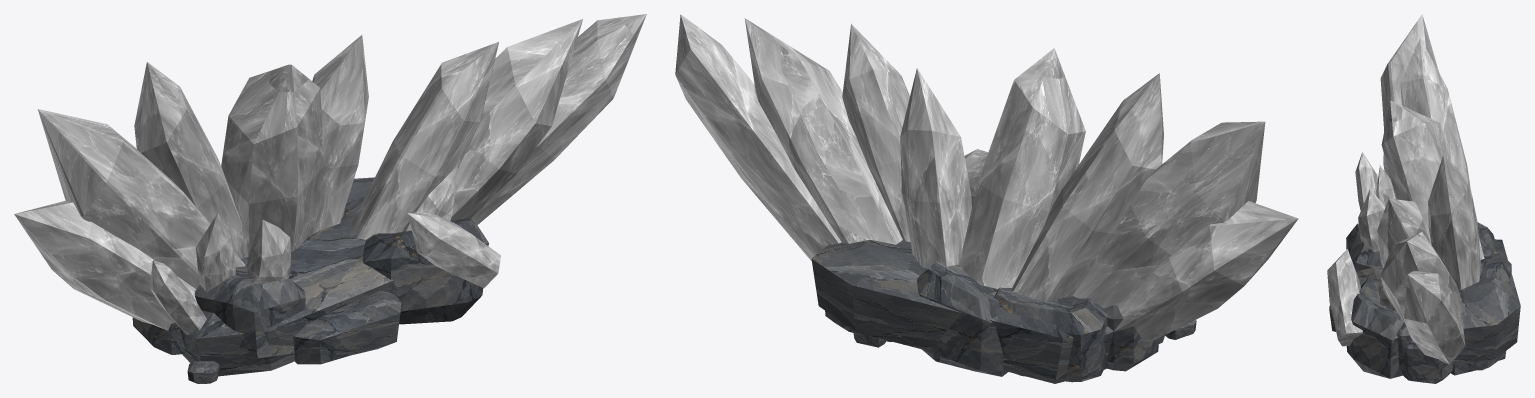
File: Ore_B3.fbx
3 renders of one model, left to right at view 1: azimuth 30°, elevation 25°; view 2: azimuth 150°, elevation 25°; view 3: azimuth 270°, elevation 25°, orthographic. The views are drawn at different scales.
Visible parts, largest first — view 1: Ore_B3_LOD0; view 2: Ore_B3_LOD0; view 3: Ore_B3_LOD0.
Boxes of the visible parts, box(x1,y1,x2,y2) form: Ore_B3_LOD0: box(14, 14, 646, 383); Ore_B3_LOD0: box(675, 14, 1298, 383); Ore_B3_LOD0: box(1327, 14, 1520, 383).
Size of what is drawn, in the model's own units: 2.95 by 1.36 by 1.02.
2 materials, 2 textured.
